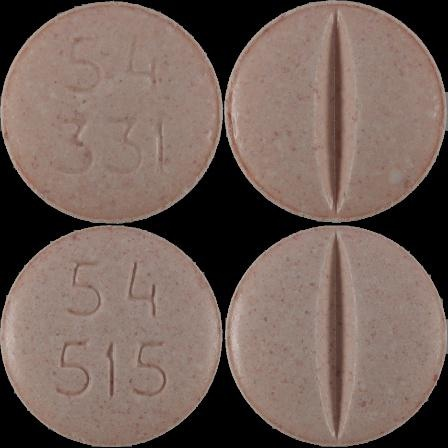55154-4958: (0, 0, 224, 224)
